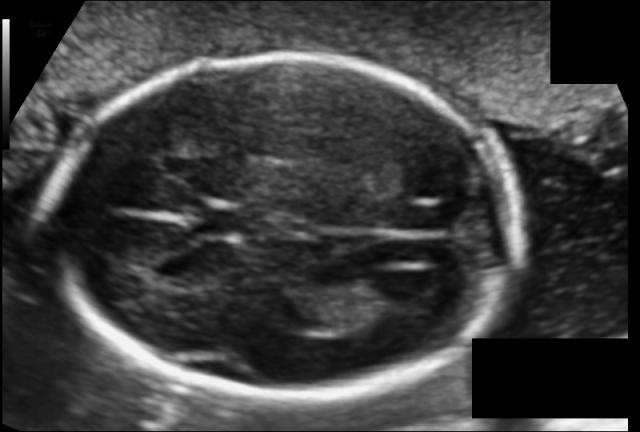CHOROID_PLEXUS: (275, 254, 403, 346)
CSP: (89, 168, 235, 264)
MIDLINE_FALX: (43, 162, 529, 277)
